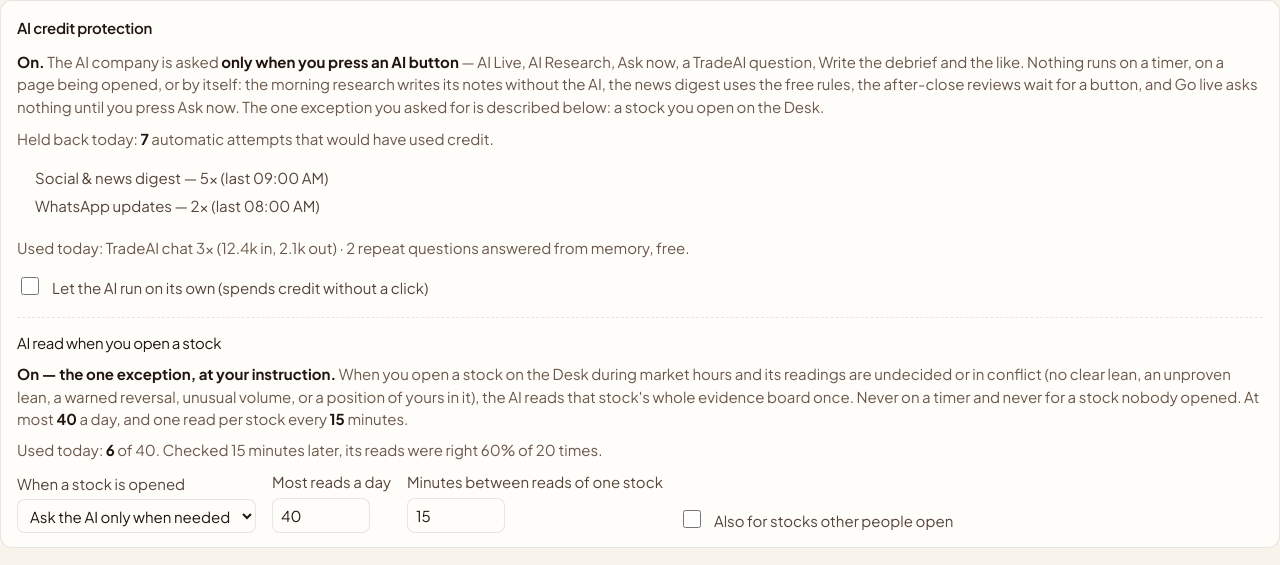
Test: the one exception has its own block: the AI read of a stock you open, with its limits, its record and the owner's switch
Expected: the element with class "ais-spend" shows "The one exception you asked for is described below: a stock you open on the Desk.", [240,96,824,116]
# the owner turns it off: one deliberate request, and the card says so
Select "Never ask (off)" in the dropdown labelled "When a stock is opened". click: (136, 516)
box: [17,499,256,533]
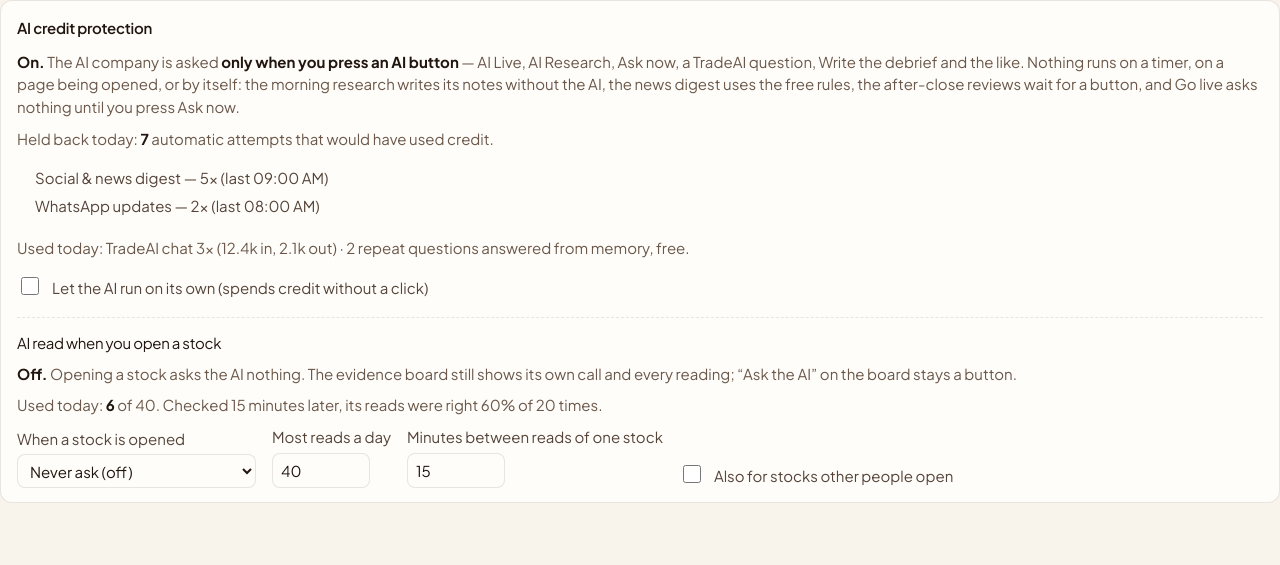
Now the element with class "ais-open" shows "Off. Opening a stock asks the AI nothing.", box [17,316,1263,488]
